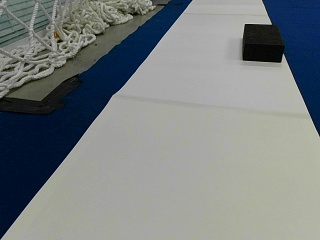block: (241, 23, 283, 62)
